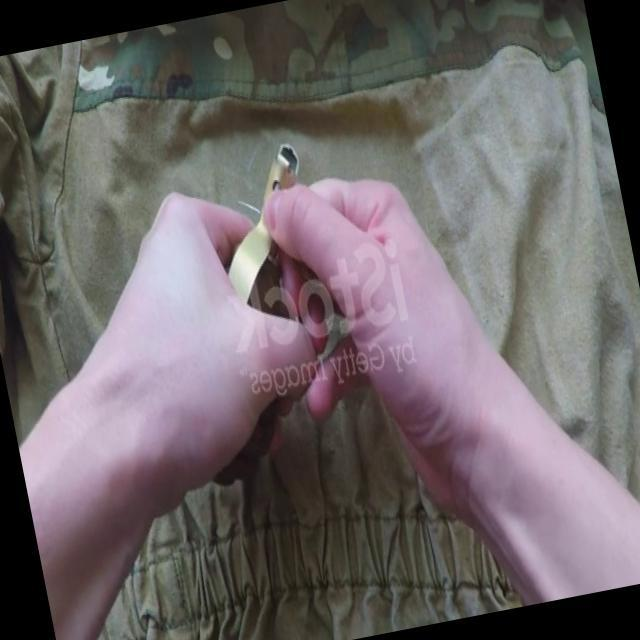grenade: (149, 141, 354, 488)
